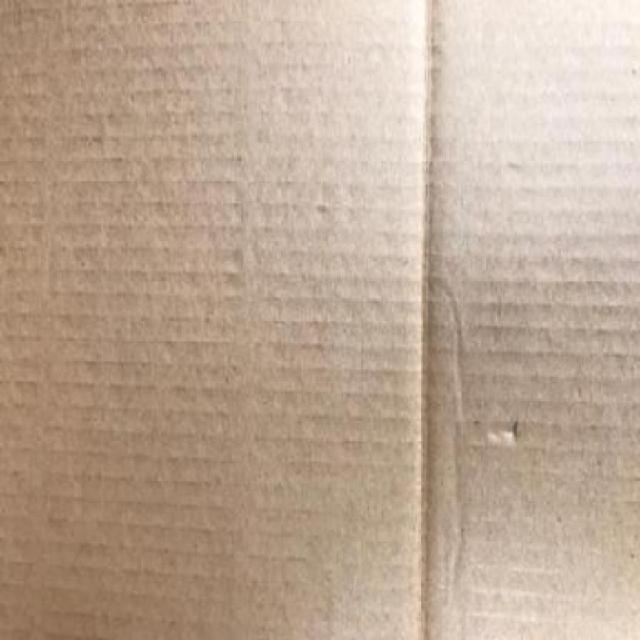CARDBOARD: (0, 0, 638, 638), (420, 0, 639, 638)
